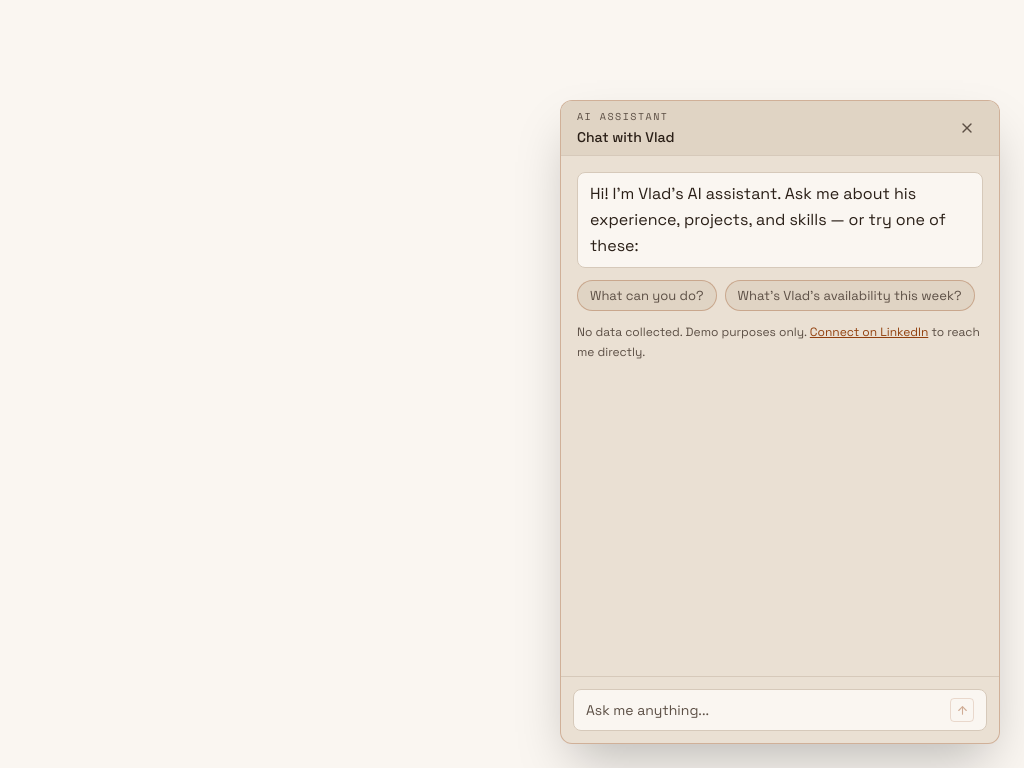
Test: ChatDrawer › shows a character counter once the user types
This screenshot has width=1024, height=768.
Expected: the text "/4000" is not shown
Type "hello" into the field named "chat message". click: (764, 710)
box: top-left (586, 700), bottom-right (942, 720)
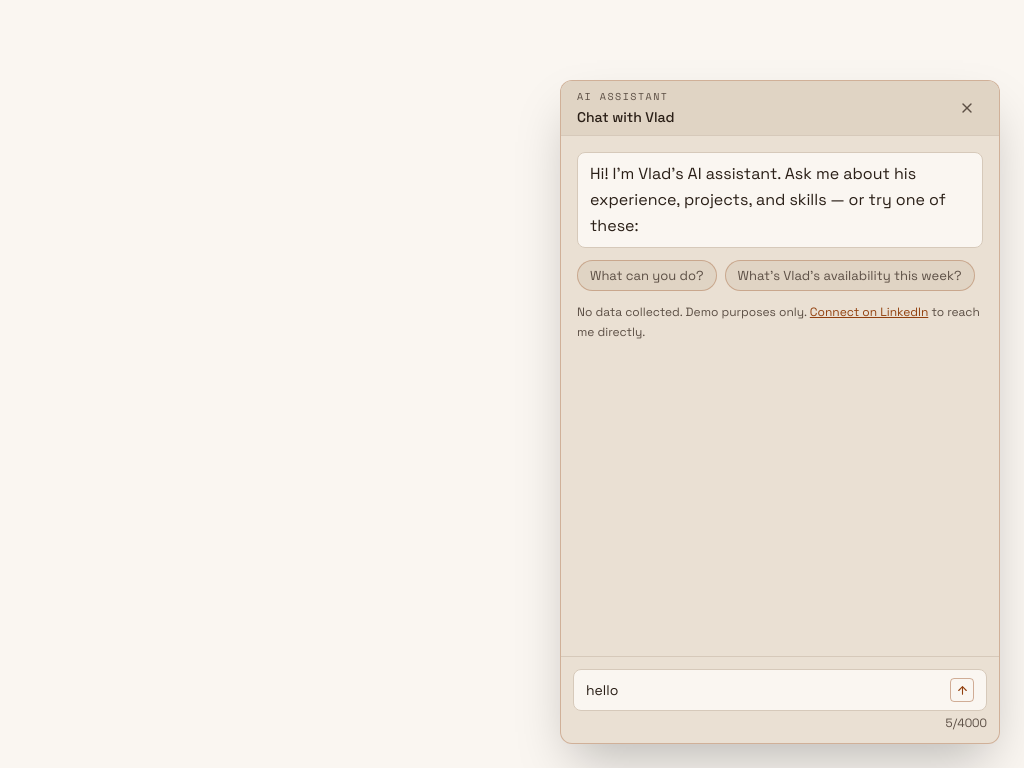
Expected: the text "5/4000" is shown, top-left (945, 715), bottom-right (987, 731)
